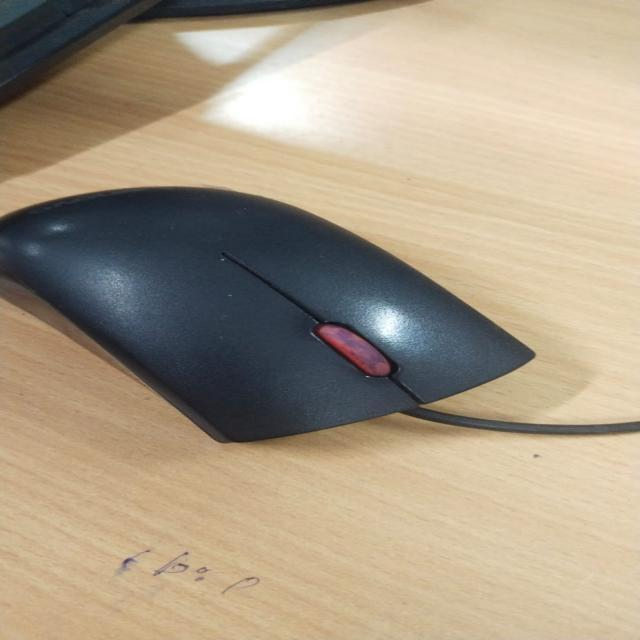mouse: (0, 178, 640, 498)
